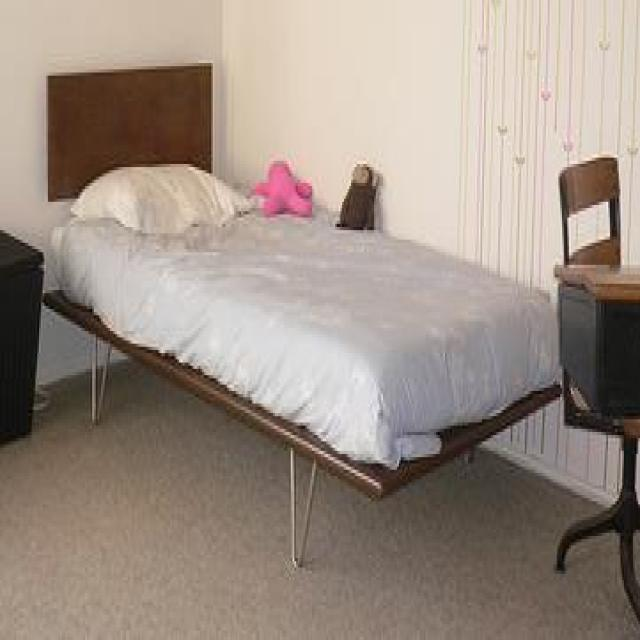bed: (42, 60, 568, 578)
